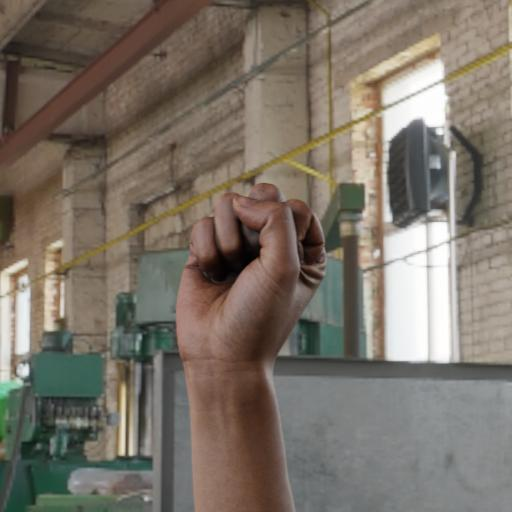S: (168, 172, 343, 457)
